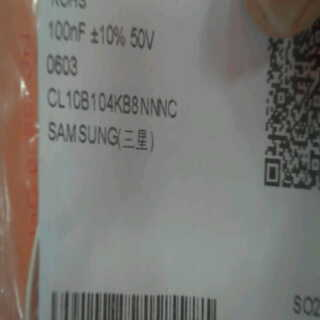100nF: (46, 16, 89, 46)
